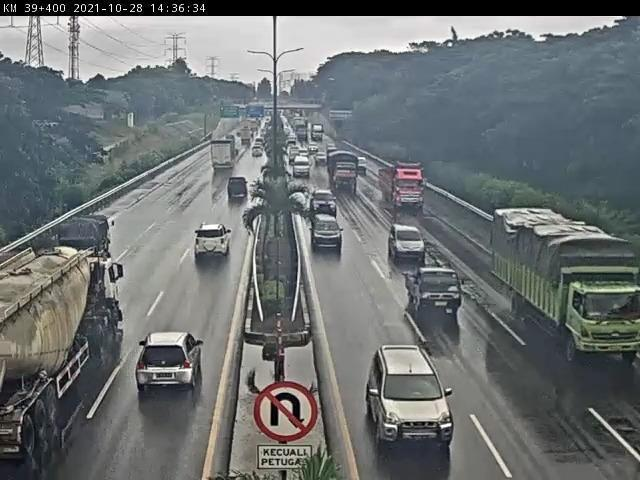car: (387, 363, 451, 432), (135, 327, 204, 389), (187, 219, 232, 279), (408, 264, 459, 312), (389, 225, 429, 265), (220, 174, 254, 210), (313, 219, 339, 249), (312, 184, 330, 207), (297, 157, 314, 178), (249, 149, 265, 161)
truck: (491, 229, 640, 359), (3, 275, 92, 436), (57, 219, 103, 272), (388, 174, 434, 210), (327, 155, 359, 187), (209, 141, 234, 177)
